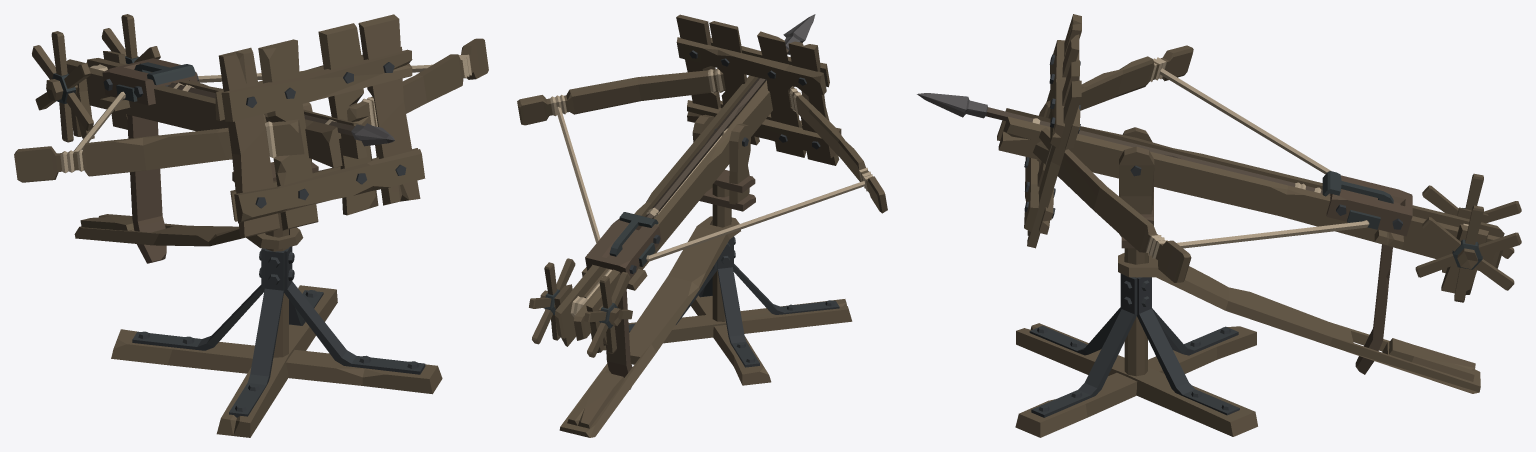
The model's file is kingdom_SM_Wep_Ballista_Mounted_01_Static.gltf.
3 views of the same model, side by side, from view 1: azimuth 30°, elevation 25°; view 2: azimuth 150°, elevation 25°; view 3: azimuth 270°, elevation 25° (orthographic). The views are drawn at different scales.
Parts seen in each view (by area): view 1: SM_Wep_Ballista_Mounted_01_Static; view 2: SM_Wep_Ballista_Mounted_01_Static; view 3: SM_Wep_Ballista_Mounted_01_Static.
Part boxes in pixels (bbox=[...]): SM_Wep_Ballista_Mounted_01_Static: bbox=[14, 14, 488, 437]; SM_Wep_Ballista_Mounted_01_Static: bbox=[517, 14, 887, 437]; SM_Wep_Ballista_Mounted_01_Static: bbox=[917, 14, 1521, 437].
Bounding box in the file's own units: 2.77 × 2.02 × 3.33.
1 material, 1 textured.
